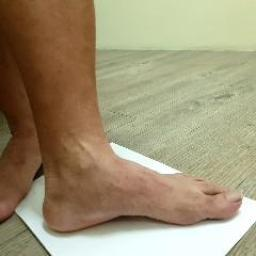Medial View -Left Foot-: (24, 102, 252, 246)
